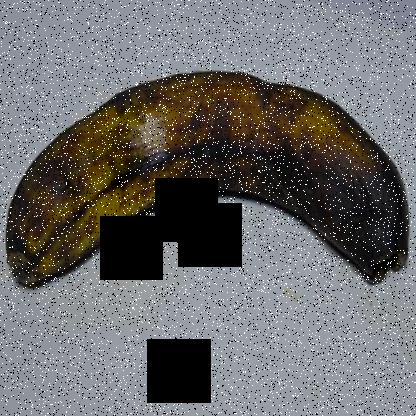overripe: (0, 43, 415, 340)
